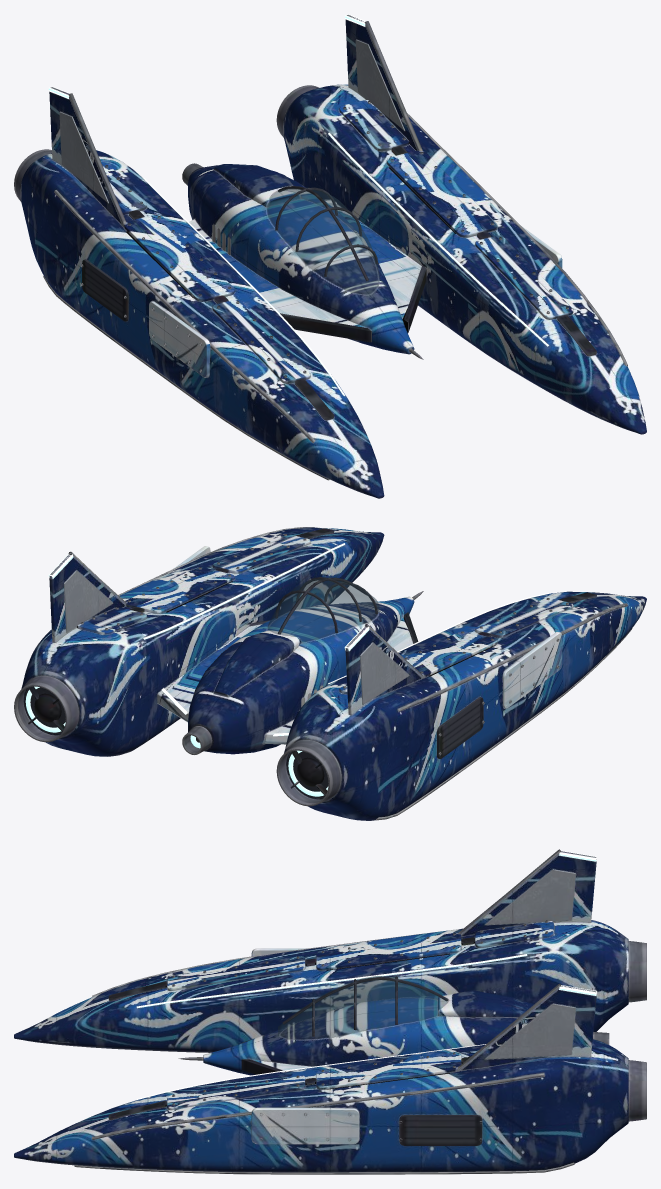
Rendered from riptide.glb.
The picture shows the model from 3 angles, top to bottom: view 1: azimuth 30°, elevation 25°; view 2: azimuth 150°, elevation 25°; view 3: azimuth 270°, elevation 25°; orthographic projection. The views are drawn at different scales.
Visible parts, largest first — view 1: riptide_body, canopy, riptide_emissive; view 2: riptide_body, canopy, riptide_emissive; view 3: riptide_body, canopy, riptide_emissive.
Boxes of the visible parts, left/top/right/bottom form: riptide_body: left=14, top=15, right=646, bottom=498; canopy: left=267, top=187, right=379, bottom=295; riptide_emissive: left=48, top=14, right=548, bottom=395; riptide_body: left=14, top=527, right=646, bottom=820; canopy: left=267, top=579, right=379, bottom=642; riptide_emissive: left=25, top=543, right=548, bottom=796; riptide_body: left=14, top=849, right=646, bottom=1174; canopy: left=278, top=975, right=447, bottom=1039; riptide_emissive: left=136, top=850, right=596, bottom=1099.
Bounding box in the file's own units: 2.79 × 1.46 × 4.58.
5 materials, 2 textured.
